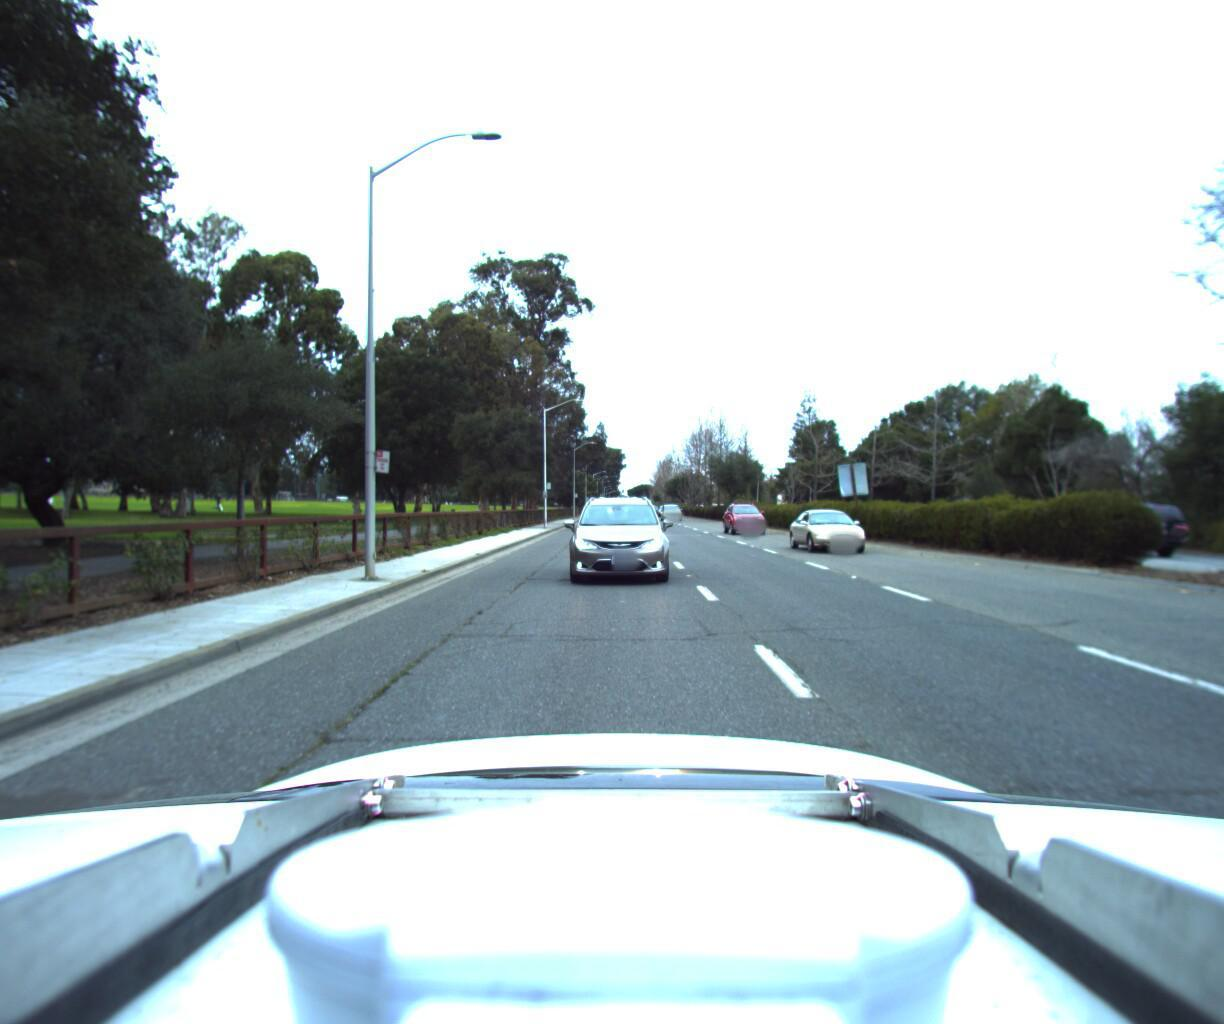car: (561, 490, 666, 586), (796, 504, 886, 553), (723, 497, 771, 529), (661, 499, 682, 515)
